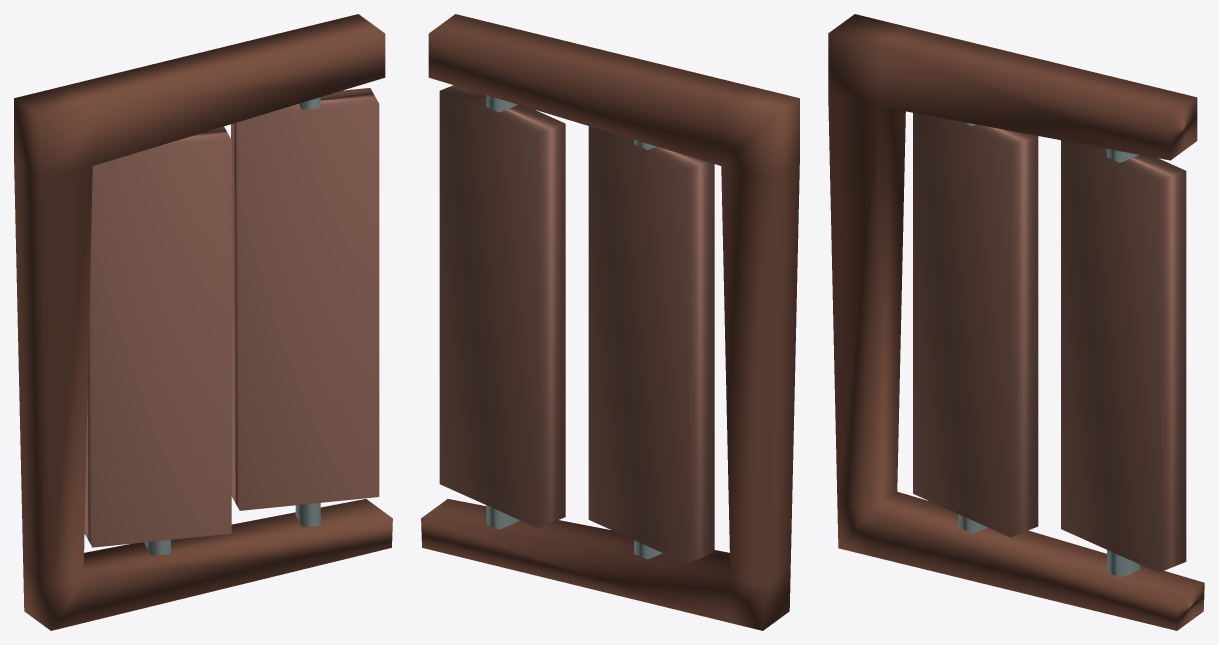
Rendered from McWilderbeest_3.fbx.
The picture shows the model from 3 angles, left to right: view 1: azimuth 30°, elevation 25°; view 2: azimuth 150°, elevation 25°; view 3: azimuth 330°, elevation 25°; orthographic projection.
Parts seen in each view (by area): view 1: w; view 2: w; view 3: w.
Boxes of the visible parts, x1,y1,x2,y2 form: w: [14, 14, 392, 630]; w: [421, 14, 799, 630]; w: [828, 14, 1204, 630].
Bounding box in the file's own units: 151 × 212 × 29.56.
Materials: 1 (1 with a texture image).
